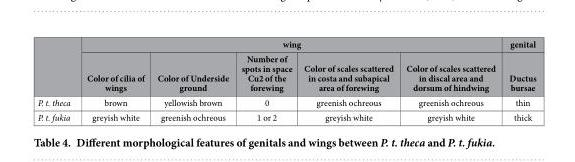table: (36, 37, 535, 122)
table column: (297, 37, 399, 122), (399, 37, 501, 122), (150, 37, 234, 122), (77, 37, 150, 122), (234, 37, 297, 122), (36, 37, 77, 122), (501, 37, 535, 122)
table column header: (36, 37, 535, 94)
table row: (36, 50, 535, 94), (36, 94, 535, 109), (36, 37, 535, 50), (36, 109, 535, 122)
table spanning cell: (77, 37, 501, 50), (501, 37, 535, 94)
